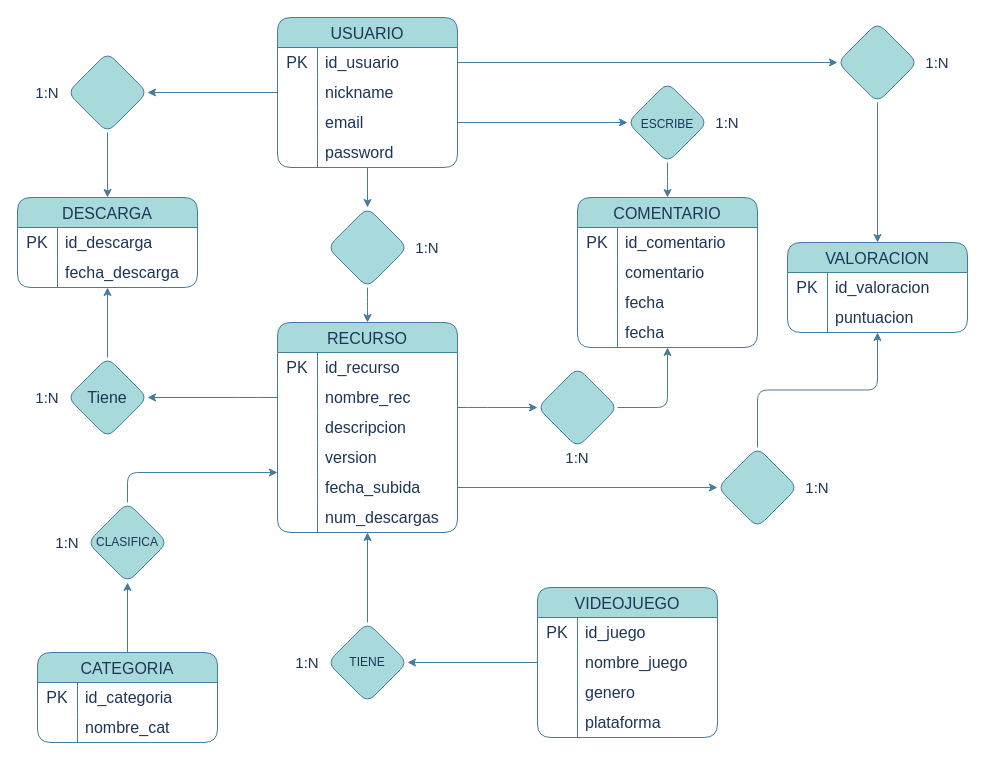
Some shapes in this 985 by 760 pixel diagram are drawn without their labels. Each missing label, with the centre of its shape:
"OBTIENE" goes at (757,487).
"PONE" goes at (877,62).
"REALIZA" goes at (107,92).
"REBICE" goes at (577,407).
"SUBE" goes at (367,247).
